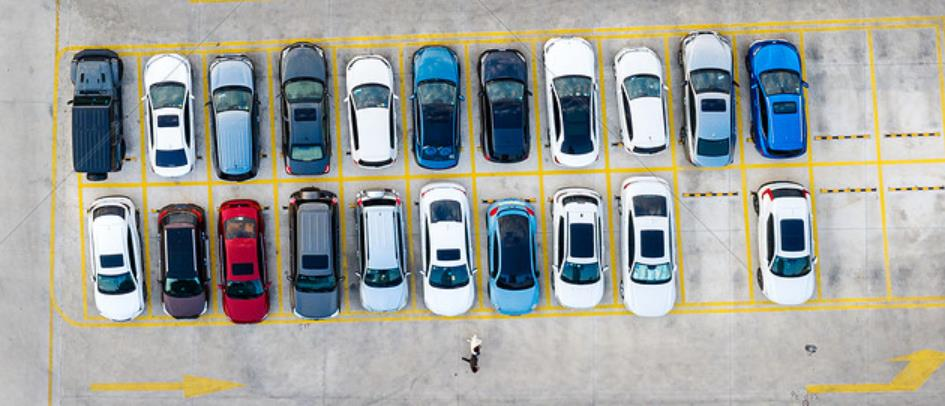car: (413, 178, 480, 319), (675, 28, 741, 171), (616, 174, 680, 319), (537, 32, 604, 169), (66, 43, 130, 182), (751, 179, 819, 304), (283, 187, 345, 324), (745, 36, 813, 160), (275, 41, 334, 180), (85, 195, 148, 323), (480, 193, 544, 318), (549, 184, 610, 311), (142, 50, 201, 181), (352, 186, 412, 314), (205, 55, 264, 184), (410, 40, 467, 173), (216, 198, 273, 328), (341, 50, 402, 170), (608, 43, 671, 155), (155, 201, 213, 321), (476, 46, 533, 164)
